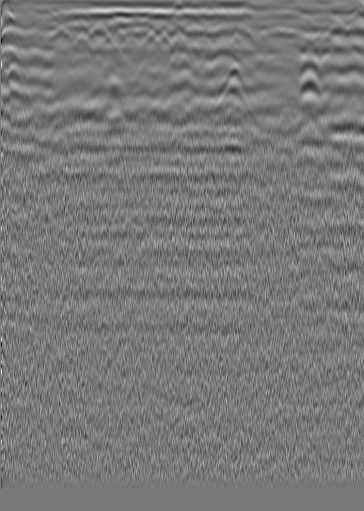가스: (207, 65, 252, 113)
상수: (297, 14, 317, 34)
오수: (26, 24, 46, 44)
우수: (154, 28, 174, 48)
